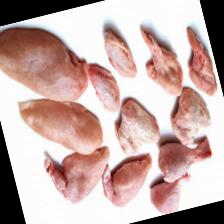chicken: (0, 13, 95, 119), (16, 84, 106, 168), (42, 143, 119, 208), (134, 17, 188, 102), (96, 152, 160, 210), (106, 92, 162, 157), (162, 82, 215, 150), (151, 130, 215, 184), (176, 22, 218, 100), (99, 25, 138, 84), (146, 172, 197, 217), (85, 58, 122, 116)
